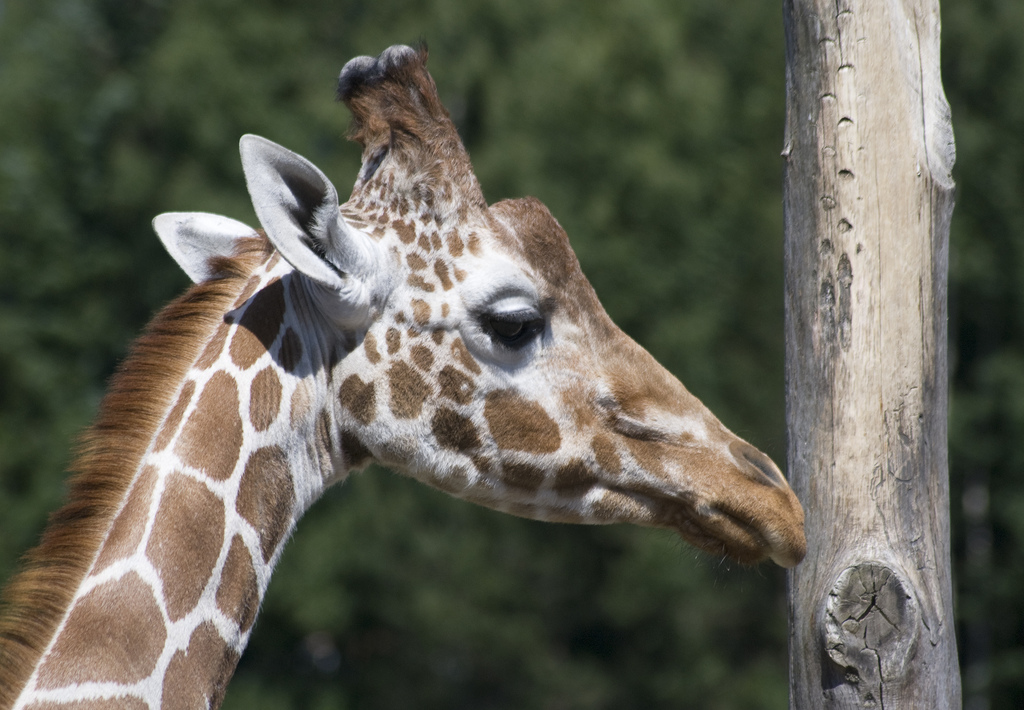giraffe: (41, 64, 736, 689)
